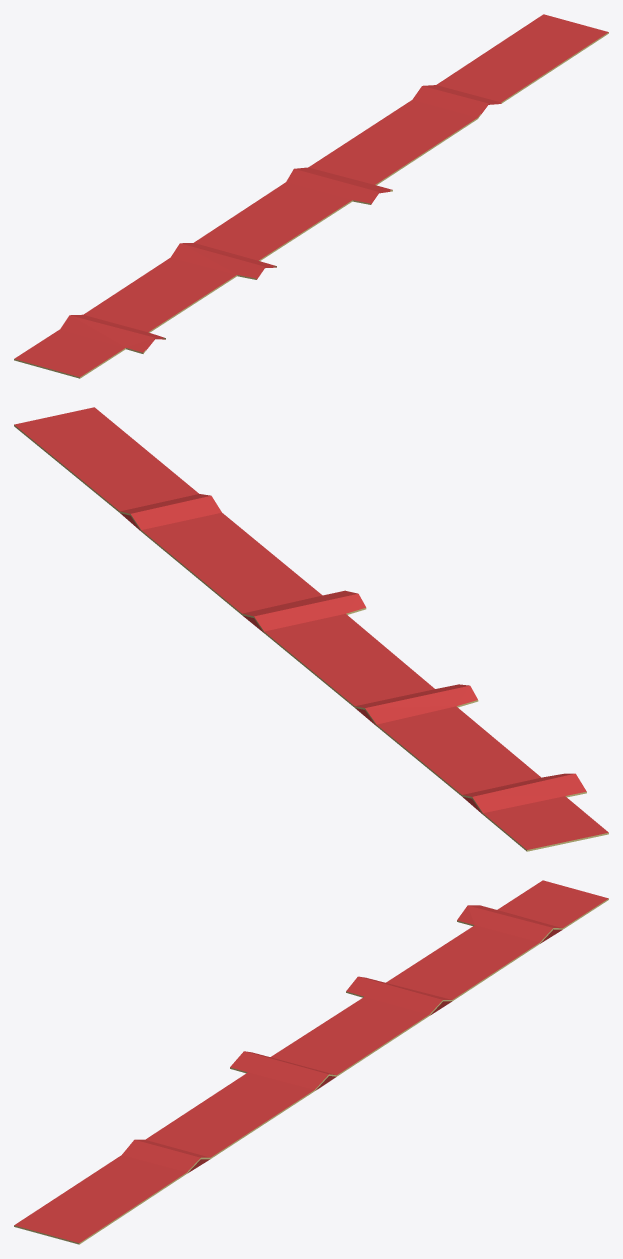
3 views of the same model, one above another, from view 1: azimuth 90°, elevation 25°; view 2: azimuth 150°, elevation 25°; view 3: azimuth 270°, elevation 25° (orthographic). The views are drawn at different scales.
Visible parts, largest first — view 1: group_3, group_4; view 2: group_3, group_4; view 3: group_3, group_4.
Part boxes in pixels (x1,y1,x2,y2): group_3: (14,14,608,376); group_4: (14,32,608,378); group_3: (14,407,608,849); group_4: (14,425,608,851); group_3: (14,880,608,1242); group_4: (14,898,608,1244).
Size of the model in its own units: 52.95 by 36.68 by 0.625.
